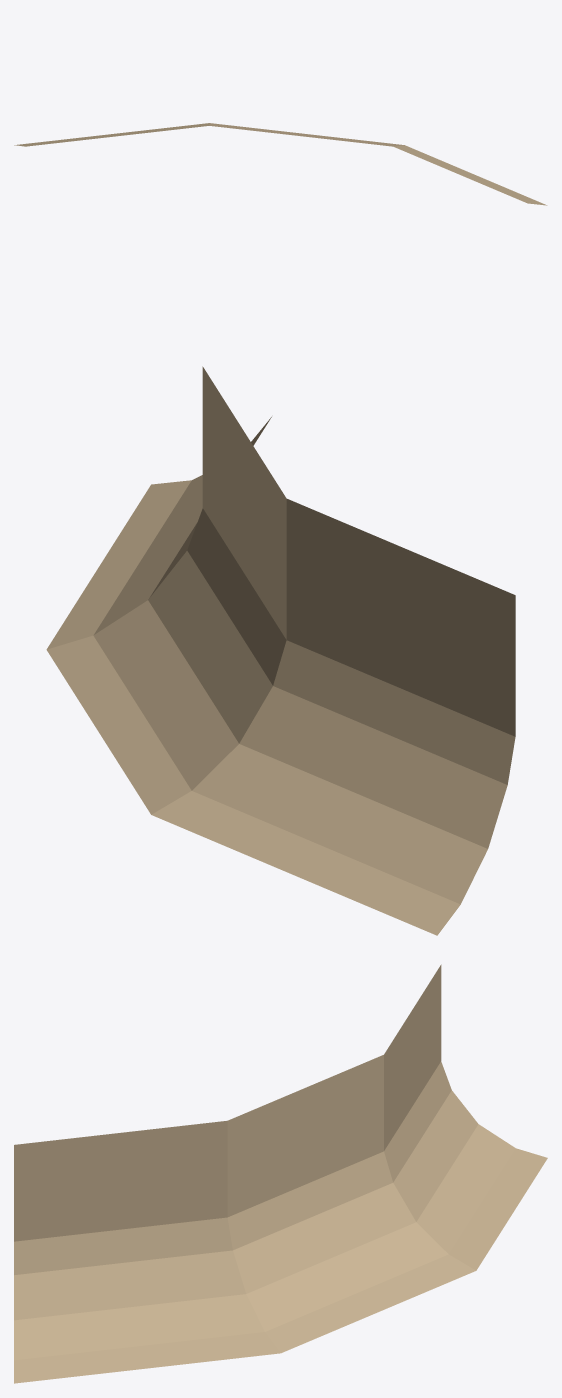
The model's file is Escarpment_Terrain_Corner_Outer_3x3_Base.glb.
3 views of the same model, one above another, from view 1: azimuth 30°, elevation 25°; view 2: azimuth 150°, elevation 25°; view 3: azimuth 270°, elevation 25° (orthographic). The views are drawn at different scales.
Visible parts, largest first — view 1: Escarpment_Terrain_Corner_Outer_3x3_Base; view 2: Escarpment_Terrain_Corner_Outer_3x3_Base; view 3: Escarpment_Terrain_Corner_Outer_3x3_Base.
Boxes of the visible parts, box(x1,y1,x2,y2) form: Escarpment_Terrain_Corner_Outer_3x3_Base: box(14, 123, 547, 205); Escarpment_Terrain_Corner_Outer_3x3_Base: box(46, 366, 515, 935); Escarpment_Terrain_Corner_Outer_3x3_Base: box(14, 964, 547, 1383).
Bounding box in the file's own units: 2.5 × 1 × 2.5.
